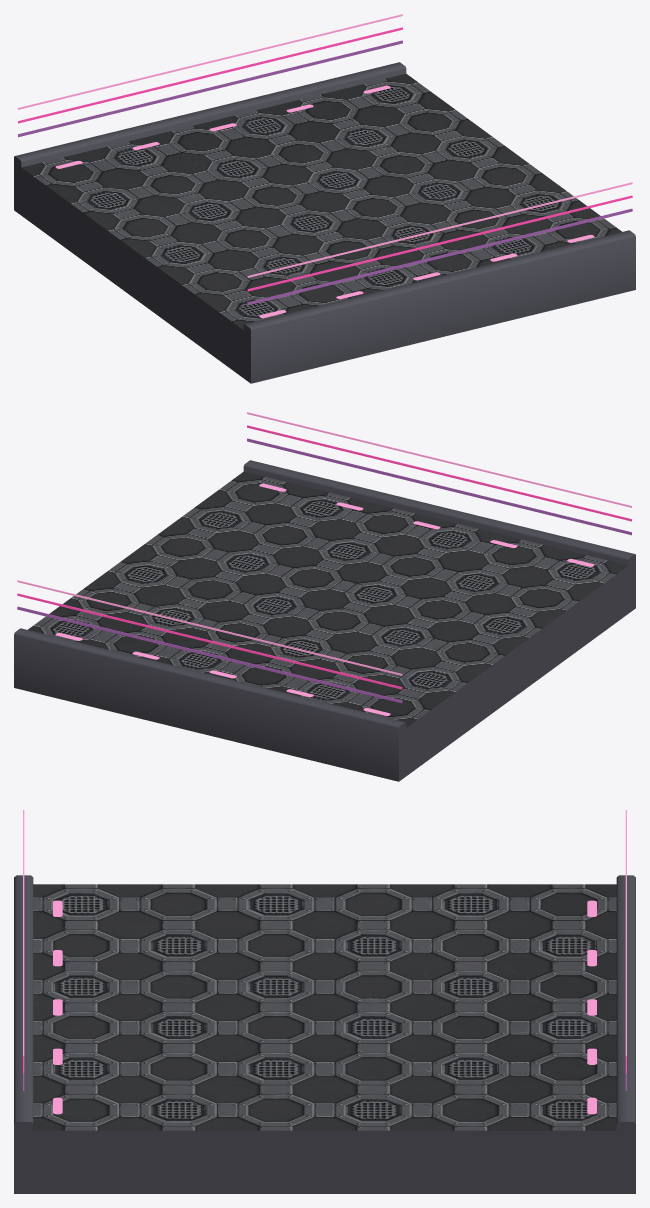
The model's file is tile-straight.glb.
3 renders of one model, top to bottom at view 1: azimuth 30°, elevation 25°; view 2: azimuth 150°, elevation 25°; view 3: azimuth 270°, elevation 25°, orthographic. The views are drawn at different scales.
Parts seen in each view (by area): view 1: Platform1_1; view 2: Platform1_1; view 3: Platform1_1.
Boxes of the visible parts, bbox=[...] form: Platform1_1: bbox=[14, 14, 635, 383]; Platform1_1: bbox=[14, 412, 635, 781]; Platform1_1: bbox=[14, 810, 635, 1193].
Size of what is drawn, in the model's own units: 6 by 1.56 by 6.4.
3 materials, 3 textured.
